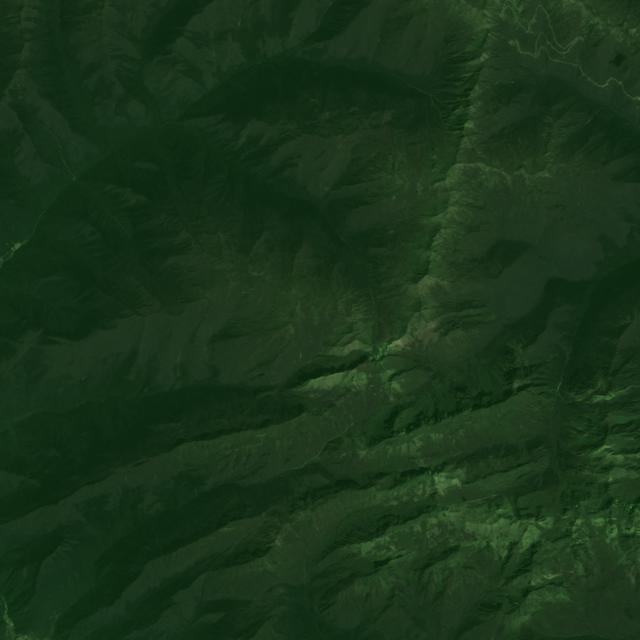landslides: (608, 384, 640, 398), (610, 415, 640, 426), (265, 553, 288, 567), (262, 556, 277, 574), (64, 576, 73, 605), (508, 341, 523, 354), (223, 629, 237, 640), (591, 106, 606, 116), (66, 478, 81, 487), (276, 540, 286, 553), (277, 535, 288, 546), (152, 526, 159, 543), (124, 536, 135, 546)
